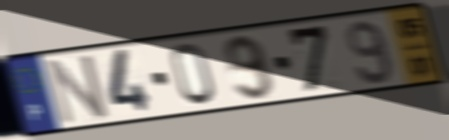0: (170, 41, 217, 108)
4: (107, 46, 158, 118)
7: (287, 22, 332, 96)
9: (222, 32, 276, 101), (345, 18, 397, 86)
N: (43, 51, 112, 128)
